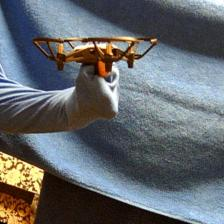drone: (31, 36, 157, 73)
